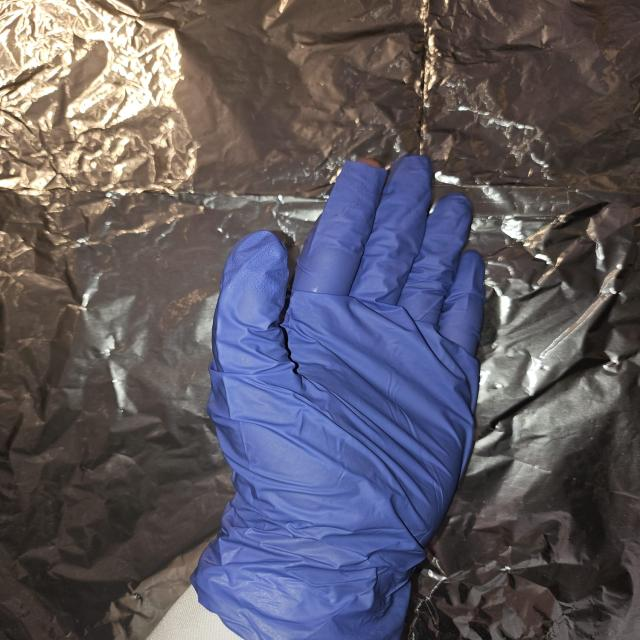gloves_damaged: (199, 149, 482, 578)
